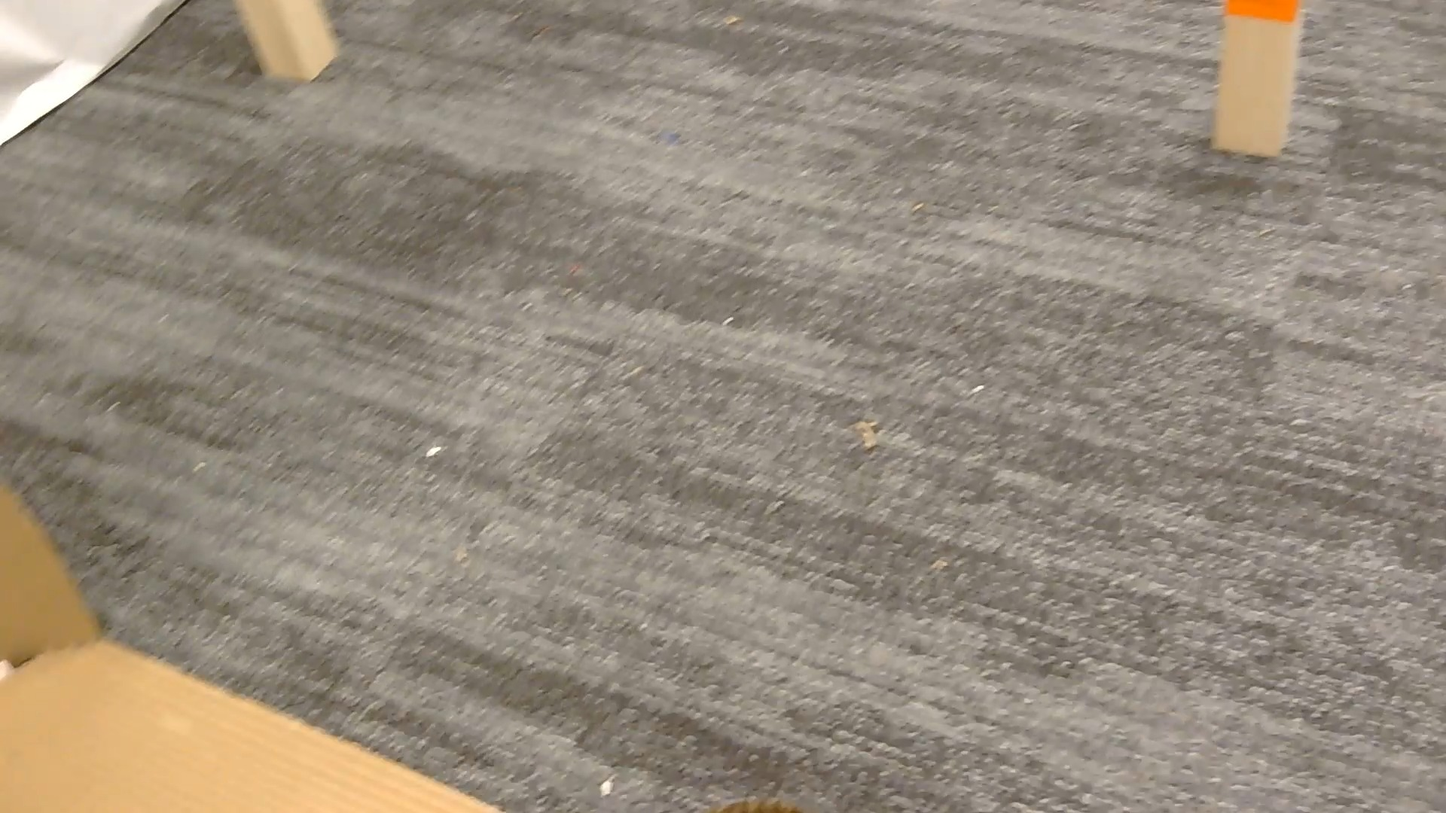Ramp: (0, 488, 499, 812)
Wooden Block: (1212, 0, 1302, 157), (234, 0, 336, 81)
